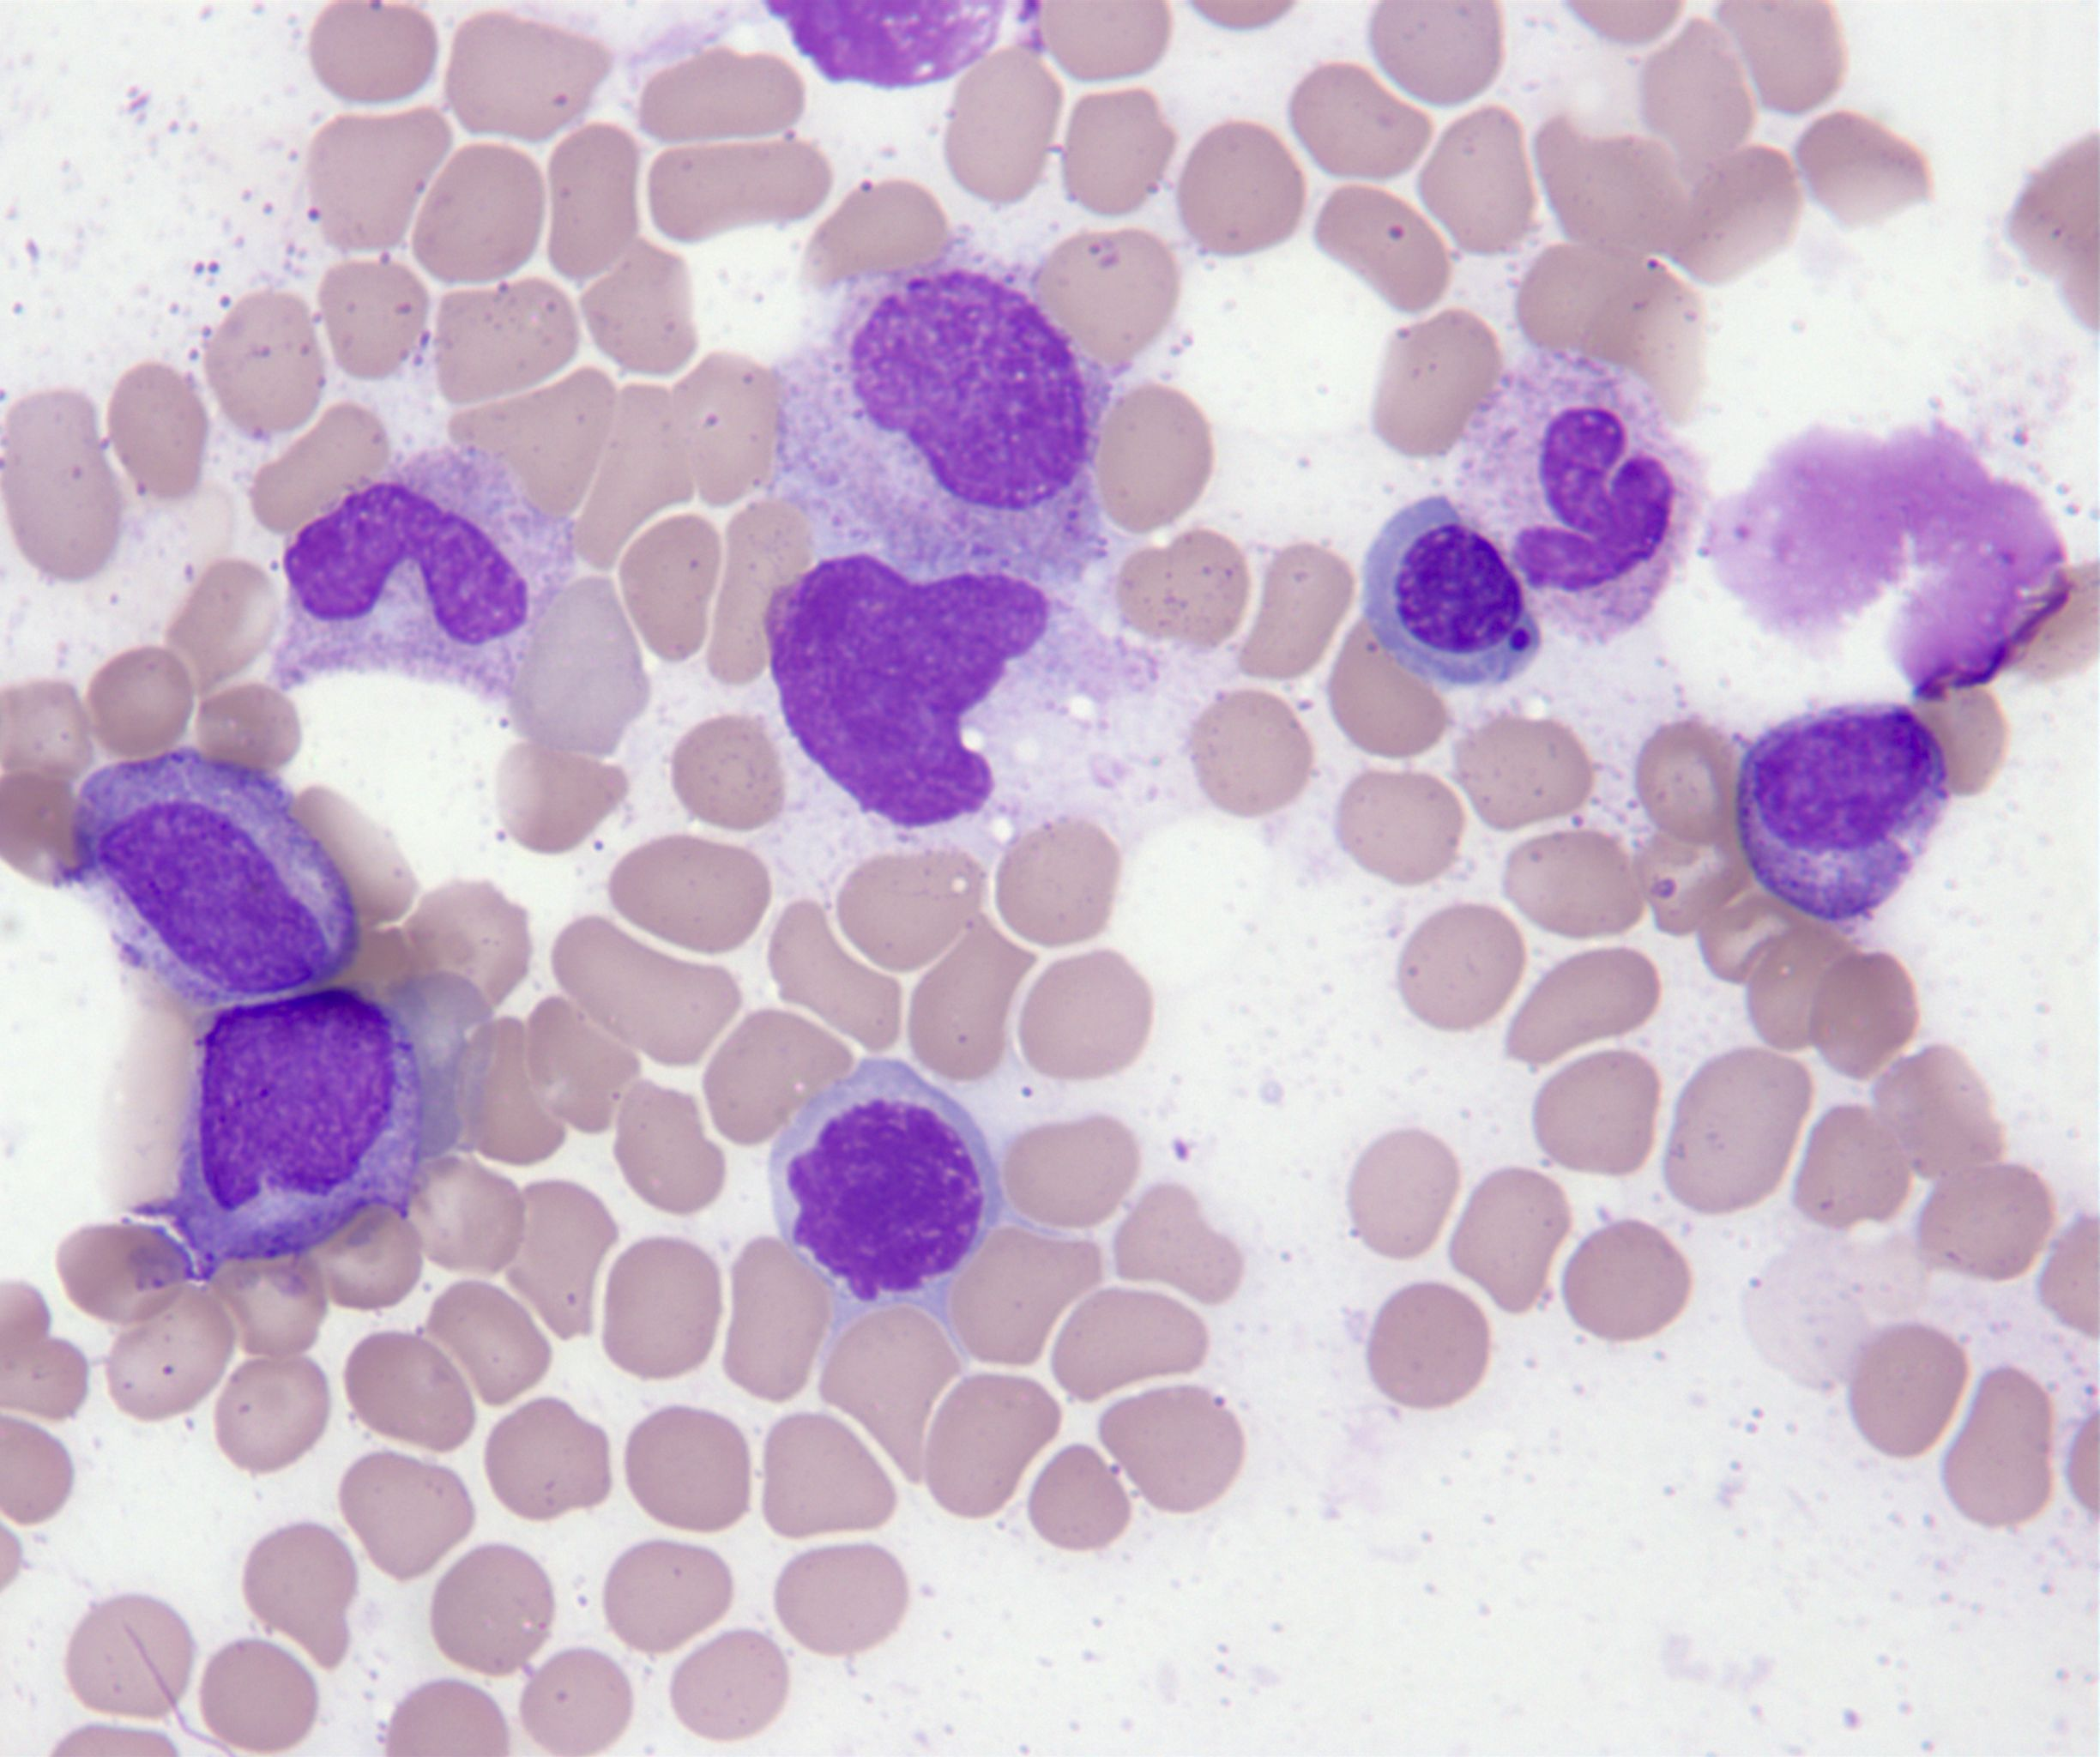23: (1364, 494, 1540, 687)
3: (117, 986, 422, 1291), (73, 749, 358, 1010), (1739, 703, 1947, 925)
5: (265, 445, 574, 703), (1451, 347, 1702, 640)
x: (764, 553, 1156, 874), (767, 236, 1113, 583), (1708, 415, 2069, 708), (769, 1059, 1071, 1368), (767, 0, 1005, 87)
